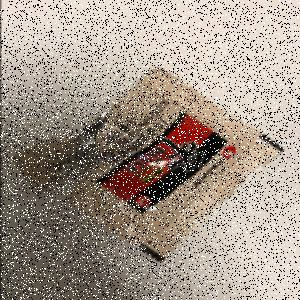Trash: (13, 67, 285, 264)
